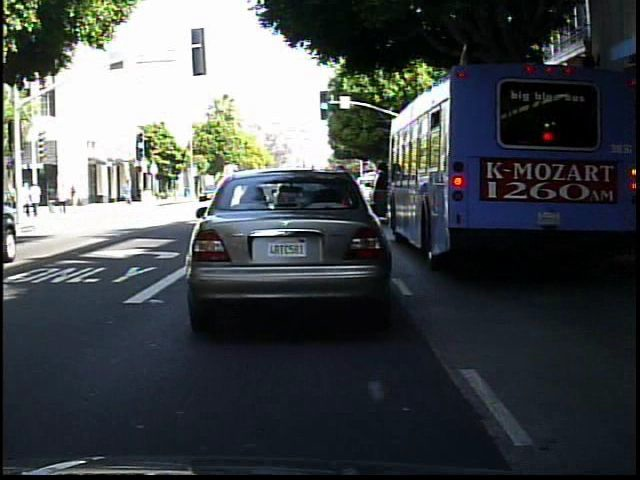person: (56, 176, 74, 216), (67, 176, 84, 215), (5, 180, 22, 218), (14, 180, 30, 219), (120, 174, 138, 208), (46, 181, 62, 217), (30, 179, 44, 218)
